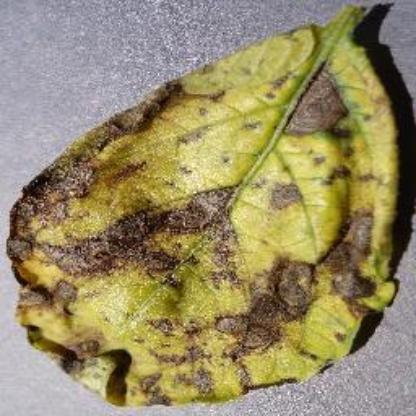Early-Blight: (6, 1, 400, 406)
